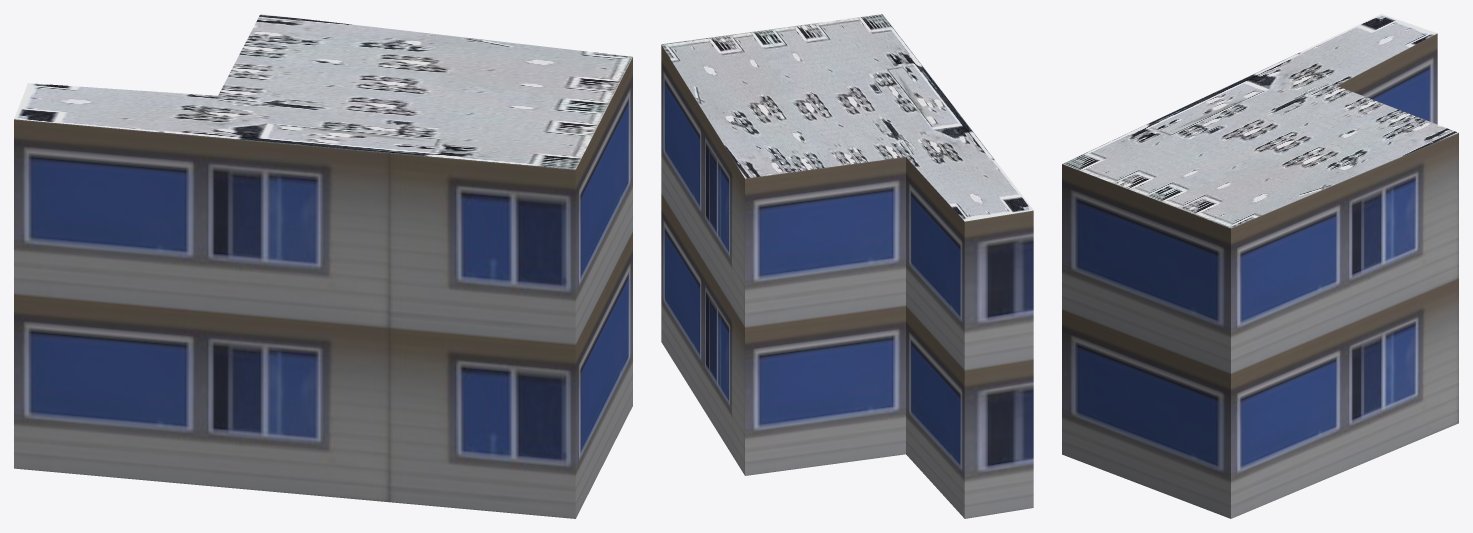
File: ResTex__4950.fbx
3 views of the same model, side by side, from view 1: azimuth 30°, elevation 25°; view 2: azimuth 150°, elevation 25°; view 3: azimuth 270°, elevation 25° (orthographic). The views are drawn at different scales.
Visible parts, largest first — view 1: CityEngineMaterial_23_m, CityEngineMaterial_8_m; view 2: CityEngineMaterial_23_m, CityEngineMaterial_8_m; view 3: CityEngineMaterial_23_m, CityEngineMaterial_8_m.
Boxes of the visible parts, bbox=[...] form: CityEngineMaterial_23_m: bbox=[14, 57, 632, 518]; CityEngineMaterial_8_m: bbox=[14, 14, 632, 169]; CityEngineMaterial_23_m: bbox=[661, 45, 1033, 518]; CityEngineMaterial_8_m: bbox=[661, 14, 1033, 221]; CityEngineMaterial_23_m: bbox=[1062, 33, 1458, 518]; CityEngineMaterial_8_m: bbox=[1062, 14, 1458, 228].
Bounding box in the file's own units: 9.5 × 6 × 7.42.
Materials: 2 (2 with a texture image).
